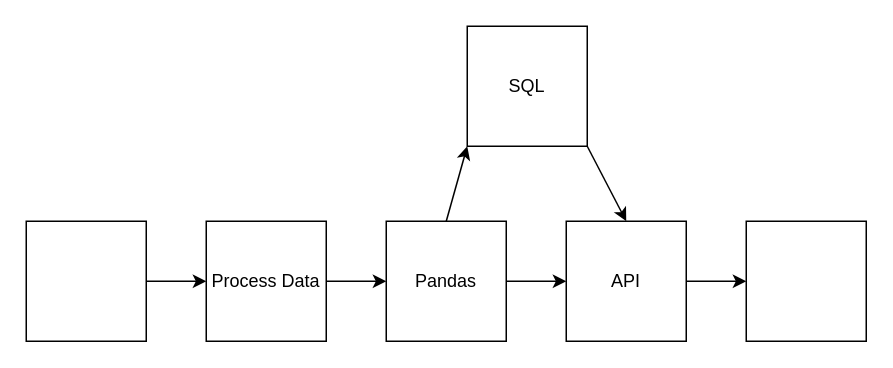
The diagram is 893 pixels wide and 368 high, and some of its shapes have lost their labels. The centre of each missing label's shape, as x and y in pixels:
"Data in format json" belongs at point (85, 280).
"Web" belongs at point (805, 280).
